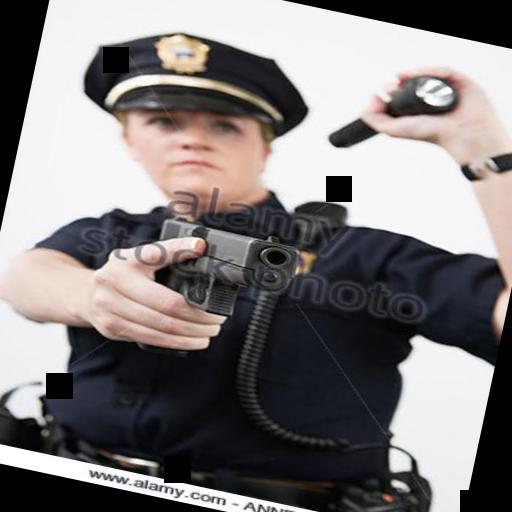Handgun: (127, 206, 304, 378)
